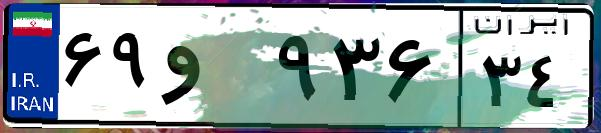3: (330, 28, 385, 110), (475, 38, 525, 113)
4: (525, 38, 570, 115)
6: (385, 28, 445, 110), (57, 26, 110, 100)
9: (270, 28, 330, 110), (110, 28, 158, 98)
و: (158, 20, 270, 120)
